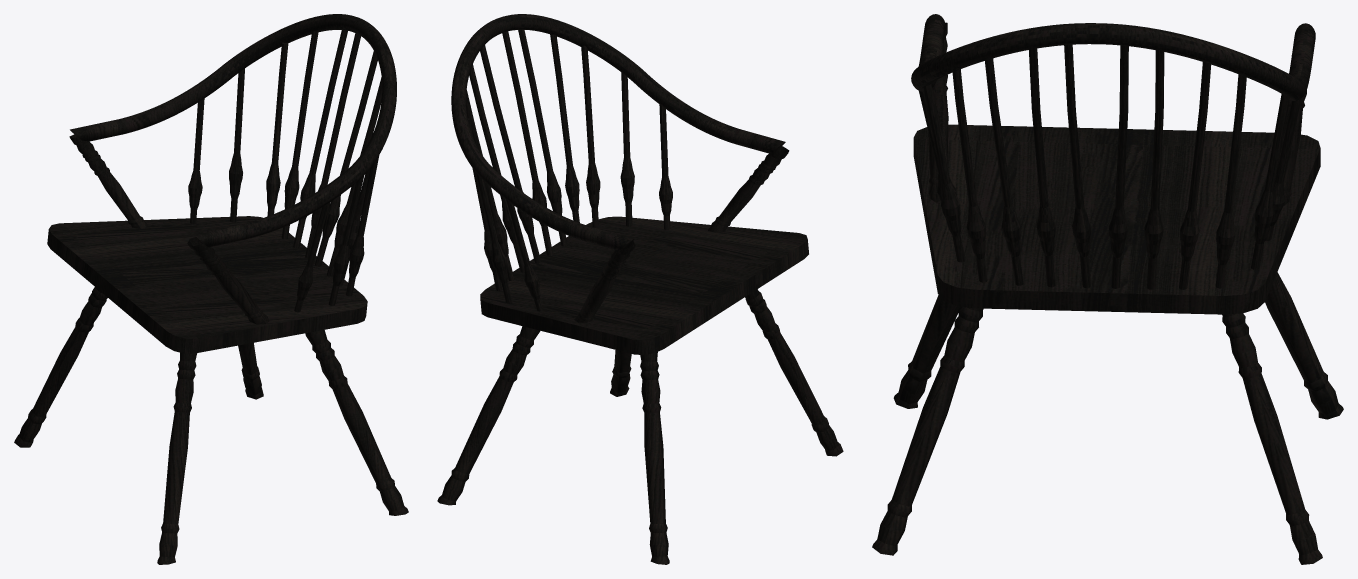
Rendered from chair3b.obj.
3 views of the same model, side by side, from view 1: azimuth 30°, elevation 25°; view 2: azimuth 150°, elevation 25°; view 3: azimuth 270°, elevation 25° (orthographic). The views are drawn at different scales.
Parts seen in each view (by area): view 1: Mesh2 Group2 Group1 Component_12_1 Model, Mesh1 Group3 Group2 Group1 Component_12_1 Model, Mesh3 Component_11_1 Group1 Component_12_1 Model, Mesh4 Component_11_2 Group1 Component_12_1 Model, Mesh6 Component_11_4 Group1 Component_12_1 Model, Mesh8 Component_11_6 Group1 Component_12_1 Model, Mesh7 Component_11_5 Group1 Component_12_1 Model, Mesh11 Group1 Component_12_1 Model, Mesh16 Group1 Component_12_1 Model, Mesh15 Group1 Component_12_1 Model, Mesh17 Group1 Component_12_1 Model, Mesh14 Group1 Component_12_1 Model (+8 smaller); view 2: Mesh2 Group2 Group1 Component_12_1 Model, Mesh1 Group3 Group2 Group1 Component_12_1 Model, Mesh6 Component_11_4 Group1 Component_12_1 Model, Mesh5 Component_11_3 Group1 Component_12_1 Model, Mesh4 Component_11_2 Group1 Component_12_1 Model, Mesh12 Group1 Component_12_1 Model, Mesh8 Component_11_6 Group1 Component_12_1 Model, Mesh15 Group1 Component_12_1 Model, Mesh9 Group1 Component_12_1 Model, Mesh14 Group1 Component_12_1 Model, Mesh13 Group1 Component_12_1 Model, Mesh7 Component_11_5 Group1 Component_12_1 Model (+8 smaller); view 3: Mesh2 Group2 Group1 Component_12_1 Model, Mesh1 Group3 Group2 Group1 Component_12_1 Model, Mesh3 Component_11_1 Group1 Component_12_1 Model, Mesh5 Component_11_3 Group1 Component_12_1 Model, Mesh6 Component_11_4 Group1 Component_12_1 Model, Mesh4 Component_11_2 Group1 Component_12_1 Model, Mesh15 Group1 Component_12_1 Model, Mesh14 Group1 Component_12_1 Model, Mesh11 Group1 Component_12_1 Model, Mesh12 Group1 Component_12_1 Model, Mesh16 Group1 Component_12_1 Model, Mesh9 Group1 Component_12_1 Model (+7 smaller).
Boxes of the visible parts, box(x1,y1,x2,y2) form: Mesh2 Group2 Group1 Component_12_1 Model: box(47, 216, 367, 353); Mesh1 Group3 Group2 Group1 Component_12_1 Model: box(70, 14, 396, 247); Mesh3 Component_11_1 Group1 Component_12_1 Model: box(305, 330, 408, 515); Mesh4 Component_11_2 Group1 Component_12_1 Model: box(157, 352, 197, 564); Mesh6 Component_11_4 Group1 Component_12_1 Model: box(14, 287, 107, 447); Mesh8 Component_11_6 Group1 Component_12_1 Model: box(187, 237, 269, 324); Mesh7 Component_11_5 Group1 Component_12_1 Model: box(69, 134, 148, 228); Mesh11 Group1 Component_12_1 Model: box(293, 30, 347, 248); Mesh16 Group1 Component_12_1 Model: box(281, 31, 318, 239); Mesh15 Group1 Component_12_1 Model: box(315, 51, 377, 266); Mesh17 Group1 Component_12_1 Model: box(266, 42, 288, 216); Mesh14 Group1 Component_12_1 Model: box(305, 33, 360, 258); Mesh2 Group2 Group1 Component_12_1 Model: box(480, 216, 808, 354); Mesh1 Group3 Group2 Group1 Component_12_1 Model: box(451, 14, 785, 249); Mesh6 Component_11_4 Group1 Component_12_1 Model: box(640, 352, 669, 564); Mesh5 Component_11_3 Group1 Component_12_1 Model: box(437, 326, 540, 505); Mesh4 Component_11_2 Group1 Component_12_1 Model: box(745, 289, 843, 456); Mesh12 Group1 Component_12_1 Model: box(518, 29, 567, 246); Mesh8 Component_11_6 Group1 Component_12_1 Model: box(708, 146, 789, 232); Mesh15 Group1 Component_12_1 Model: box(502, 31, 552, 255); Mesh9 Group1 Component_12_1 Model: box(550, 34, 579, 222); Mesh14 Group1 Component_12_1 Model: box(480, 45, 541, 263); Mesh13 Group1 Component_12_1 Model: box(581, 45, 600, 228); Mesh7 Component_11_5 Group1 Component_12_1 Model: box(574, 241, 635, 322); Mesh2 Group2 Group1 Component_12_1 Model: box(913, 124, 1320, 314); Mesh1 Group3 Group2 Group1 Component_12_1 Model: box(911, 14, 1315, 100); Mesh3 Component_11_1 Group1 Component_12_1 Model: box(872, 306, 983, 555); Mesh5 Component_11_3 Group1 Component_12_1 Model: box(1222, 313, 1322, 564); Mesh6 Component_11_4 Group1 Component_12_1 Model: box(1265, 272, 1343, 419); Mesh4 Component_11_2 Group1 Component_12_1 Model: box(893, 295, 960, 408); Mesh15 Group1 Component_12_1 Model: box(1064, 44, 1091, 288); Mesh14 Group1 Component_12_1 Model: box(1109, 45, 1128, 288); Mesh11 Group1 Component_12_1 Model: box(1144, 50, 1164, 289); Mesh12 Group1 Component_12_1 Model: box(1029, 46, 1055, 287); Mesh16 Group1 Component_12_1 Model: box(1179, 62, 1211, 289); Mesh9 Group1 Component_12_1 Model: box(985, 58, 1023, 285).
Bounding box in the file's own units: 8.38 × 11.59 × 8.84.
1 material, 1 textured.
